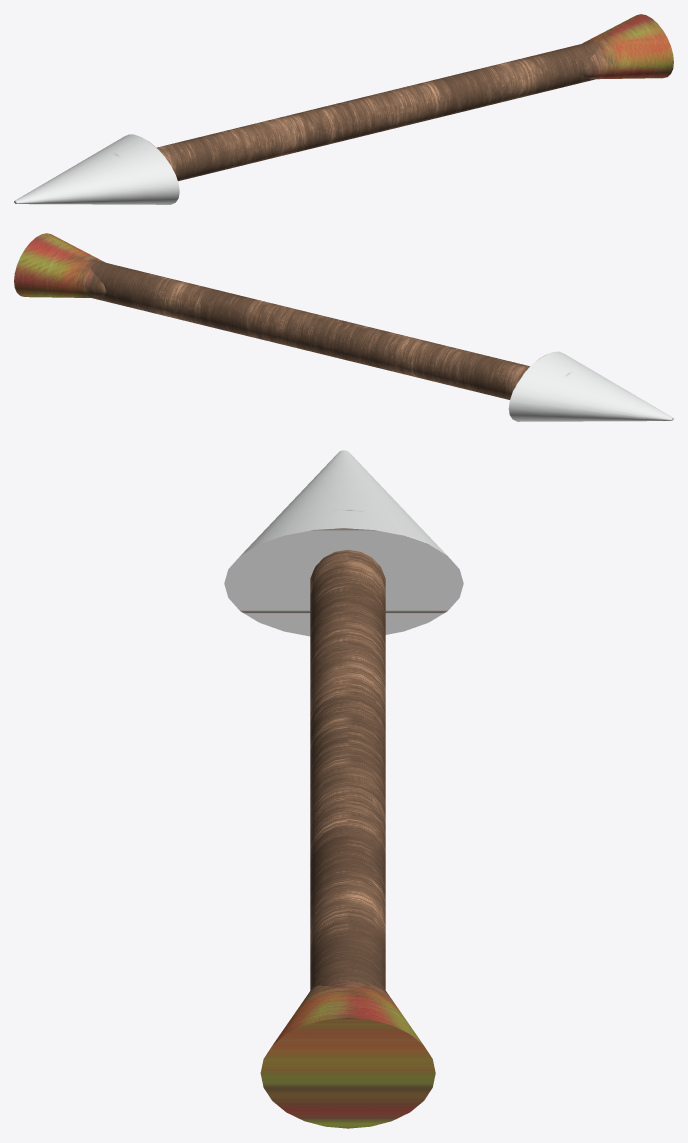
The model's file is ARROW.FBX.
The picture shows the model from 3 angles, top to bottom: view 1: azimuth 30°, elevation 25°; view 2: azimuth 150°, elevation 25°; view 3: azimuth 270°, elevation 25°; orthographic projection. The views are drawn at different scales.
Parts seen in each view (by area): view 1: Cone002; view 2: Cone002; view 3: Cone002.
Boxes of the visible parts, x1=… form: Cone002: x1=14, y1=14, x2=673, y2=204; Cone002: x1=14, y1=233, x2=673, y2=421; Cone002: x1=224, y1=450, x2=463, y2=1128.
Size of the model in its own units: 71.04 by 5.91 by 11.59.
1 material, 1 textured.
